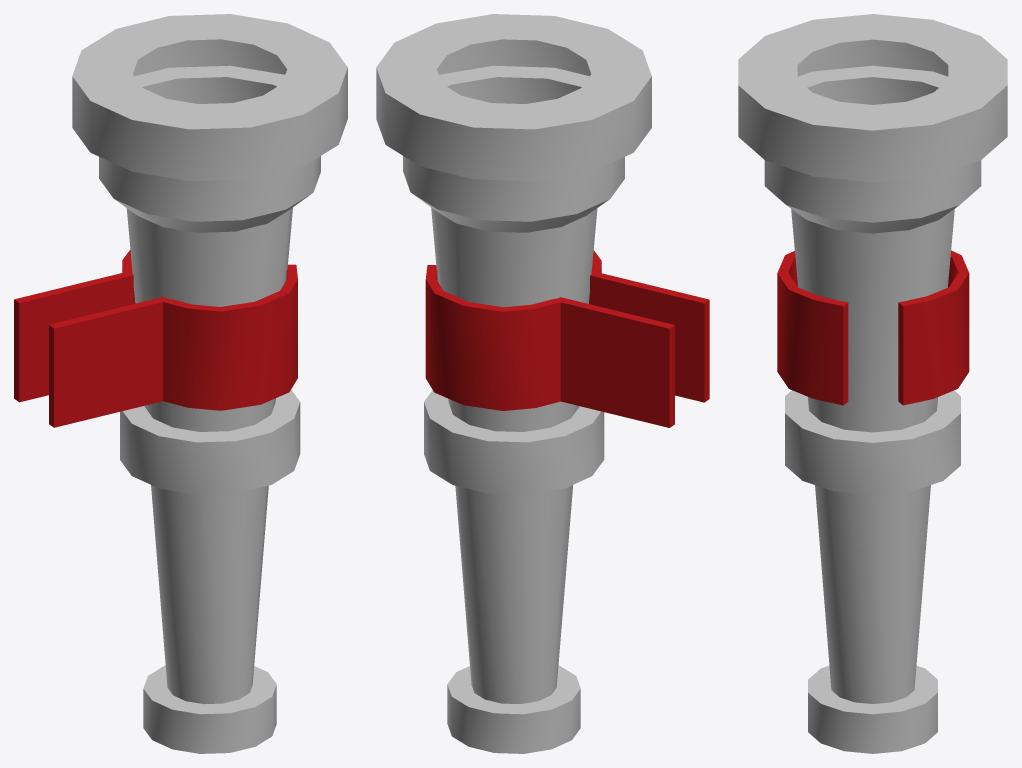
File: nozzle.fbx
3 views of the same model, side by side, from view 1: azimuth 30°, elevation 25°; view 2: azimuth 150°, elevation 25°; view 3: azimuth 270°, elevation 25° (orthographic).
Parts seen in each view (by area): view 1: Obj3d66_953184_69_84, Obj3d66_953184_64_271; view 2: Obj3d66_953184_69_84, Obj3d66_953184_64_271; view 3: Obj3d66_953184_69_84, Obj3d66_953184_64_271.
Part boxes in pixels (bbox=[...]): Obj3d66_953184_69_84: bbox=[72, 14, 347, 753]; Obj3d66_953184_64_271: bbox=[14, 250, 297, 427]; Obj3d66_953184_69_84: bbox=[376, 14, 651, 753]; Obj3d66_953184_64_271: bbox=[425, 250, 709, 427]; Obj3d66_953184_69_84: bbox=[738, 14, 1007, 753]; Obj3d66_953184_64_271: bbox=[777, 250, 969, 405].
Bounding box in the file's own units: 125 × 266 × 99.1.
